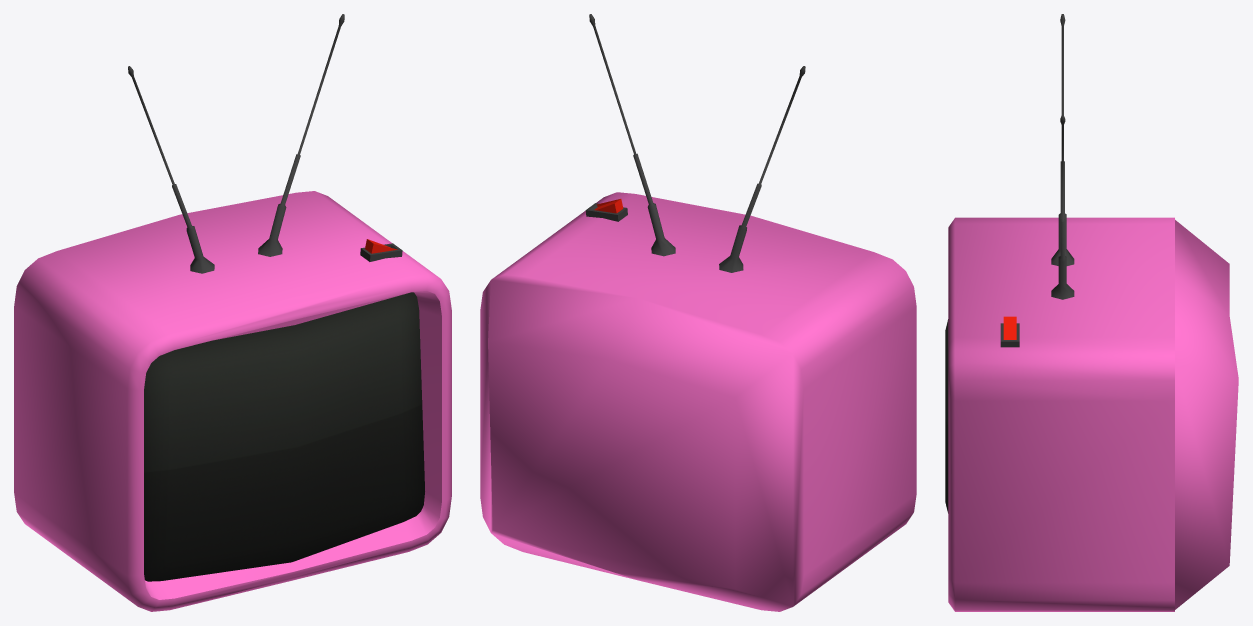
3 renders of one model, left to right at view 1: azimuth 30°, elevation 25°; view 2: azimuth 150°, elevation 25°; view 3: azimuth 270°, elevation 25°, orthographic. The views are drawn at different scales.
Parts seen in each view (by area): view 1: Tv; view 2: Tv; view 3: Tv.
Part boxes in pixels (left/top/right/bottom): Tv: left=14, top=14, right=451, bottom=611; Tv: left=480, top=14, right=916, bottom=611; Tv: left=945, top=14, right=1238, bottom=611.
Size of the model in its own units: 125 by 184 by 101.
